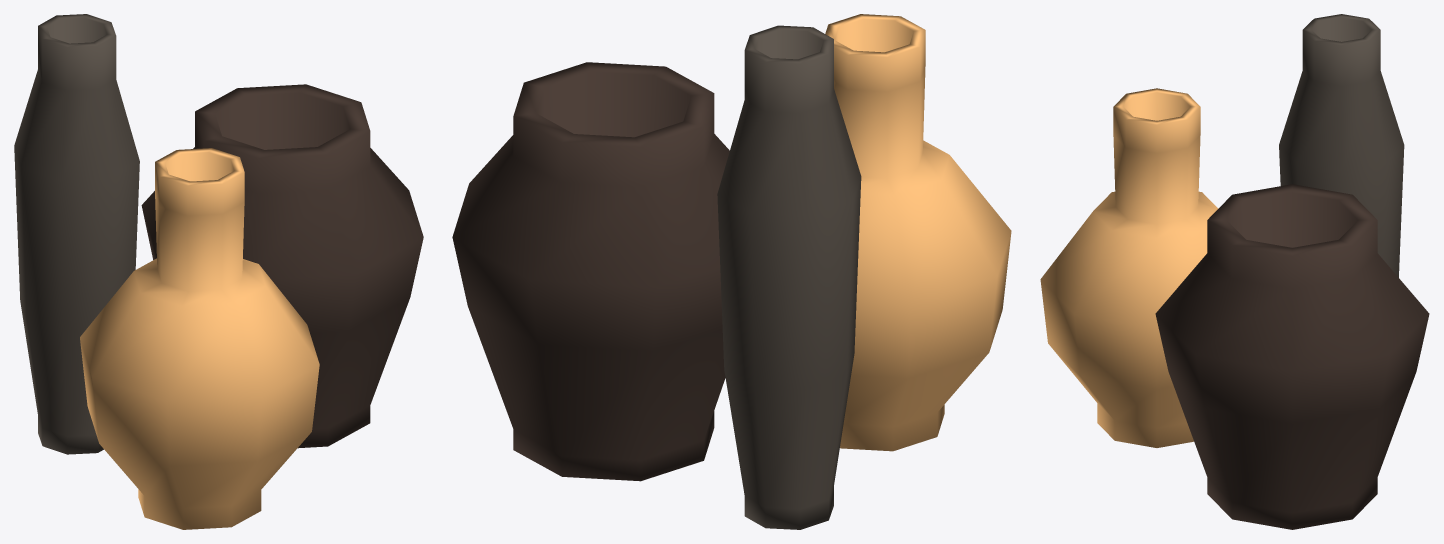
Rendered from guanzi.fbx.
The picture shows the model from 3 angles, left to right: view 1: azimuth 30°, elevation 25°; view 2: azimuth 150°, elevation 25°; view 3: azimuth 270°, elevation 25°; orthographic projection. The views are drawn at different scales.
Visible parts, largest first — view 1: 圆环.001, 圆环, 圆环.002; view 2: 圆环, 圆环.002, 圆环.001; view 3: 圆环, 圆环.001, 圆环.002.
Boxes of the visible parts, x1,y1,x2,y2 form: 圆环.001: (80,148,319,529); 圆环: (141,84,423,448); 圆环.002: (14,14,139,454); 圆环: (452,62,729,481); 圆环.002: (717,25,861,529); 圆环.001: (825,14,1011,451); 圆环: (1155,184,1429,529); 圆环.001: (1040,88,1218,447); 圆环.002: (1279,14,1404,277).
Size of the model in its own units: 147 by 147 by 136.
